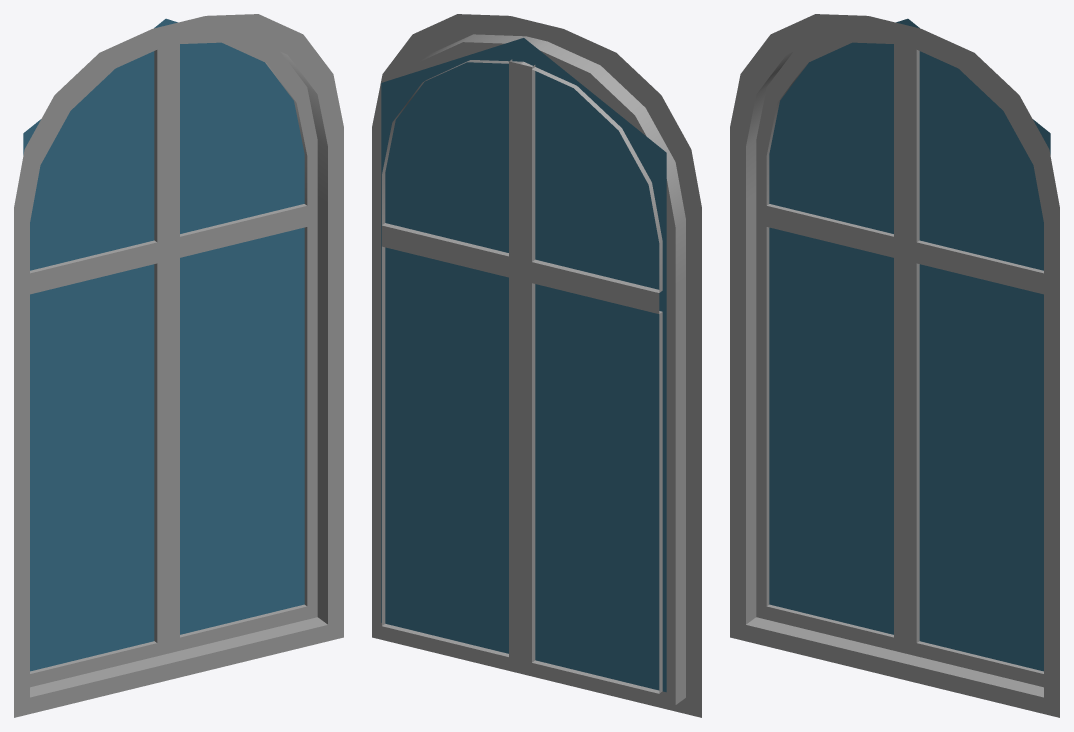
Rendered from WindowBigFrame_Mesh.fbx.
The picture shows the model from 3 angles, left to right: view 1: azimuth 30°, elevation 25°; view 2: azimuth 150°, elevation 25°; view 3: azimuth 330°, elevation 25°; orthographic projection.
Visible parts, largest first — view 1: WindowBigFrame1; view 2: WindowBigFrame1; view 3: WindowBigFrame1.
Boxes of the visible parts, left/top/right/bottom form: WindowBigFrame1: left=14, top=14, right=343, bottom=717; WindowBigFrame1: left=372, top=14, right=701, bottom=717; WindowBigFrame1: left=730, top=14, right=1059, bottom=717.
Bounding box in the file's own units: 267 × 507 × 23.12.
Materials: 2 (1 with a texture image).
